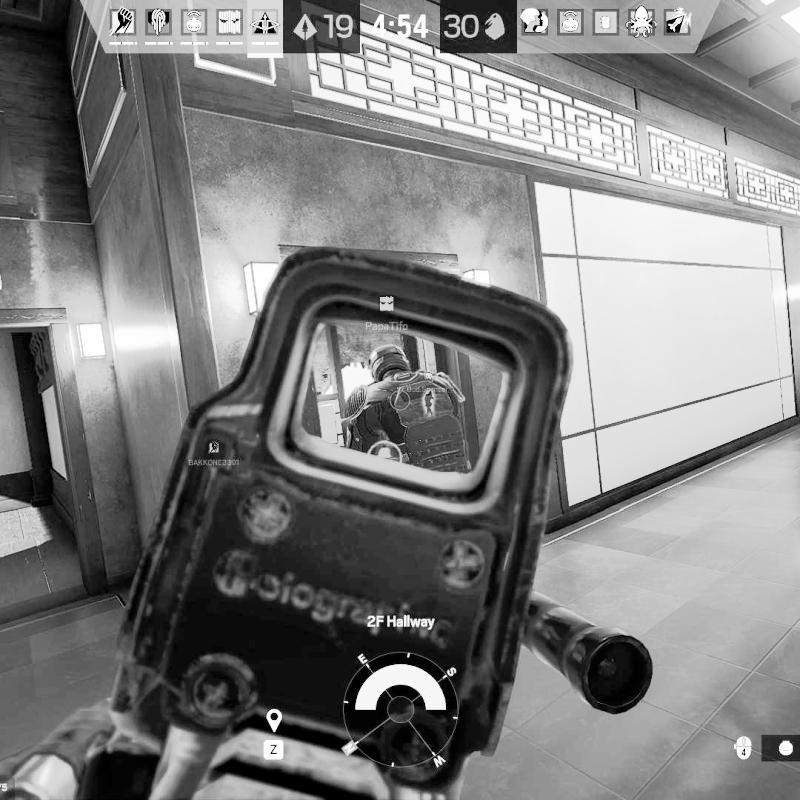Character: (338, 342, 473, 476)
Friend_label: (364, 293, 410, 333), (187, 440, 240, 468), (407, 368, 449, 393)
Head: (367, 344, 410, 380)
